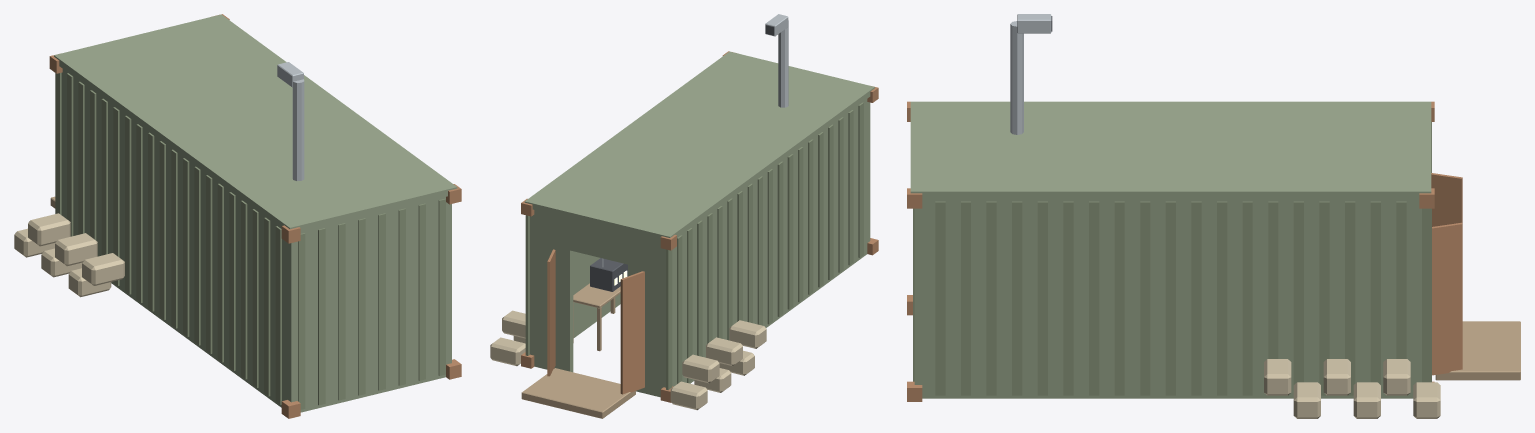
Rendered from bunker.glb.
3 renders of one model, left to right at view 1: azimuth 30°, elevation 25°; view 2: azimuth 150°, elevation 25°; view 3: azimuth 270°, elevation 25°, orthographic. The views are drawn at different scales.
Visible parts, largest first — view 1: bk_box_mesh; view 2: bk_box_mesh, bk_inside_mesh; view 3: bk_box_mesh.
Boxes of the visible parts, <box> form: bk_box_mesh: <box>14,14,461,418</box>; bk_box_mesh: <box>490,14,878,418</box>; bk_inside_mesh: <box>573,258,627,351</box>; bk_box_mesh: <box>907,14,1520,418</box>.
Bounding box in the file's own units: 3.6 × 4.19 × 7.19.
